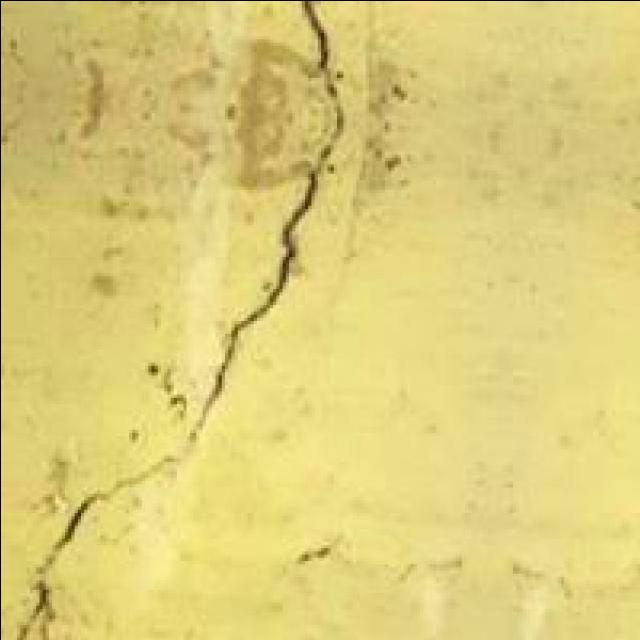SurfaceCrack: (14, 0, 362, 640)
